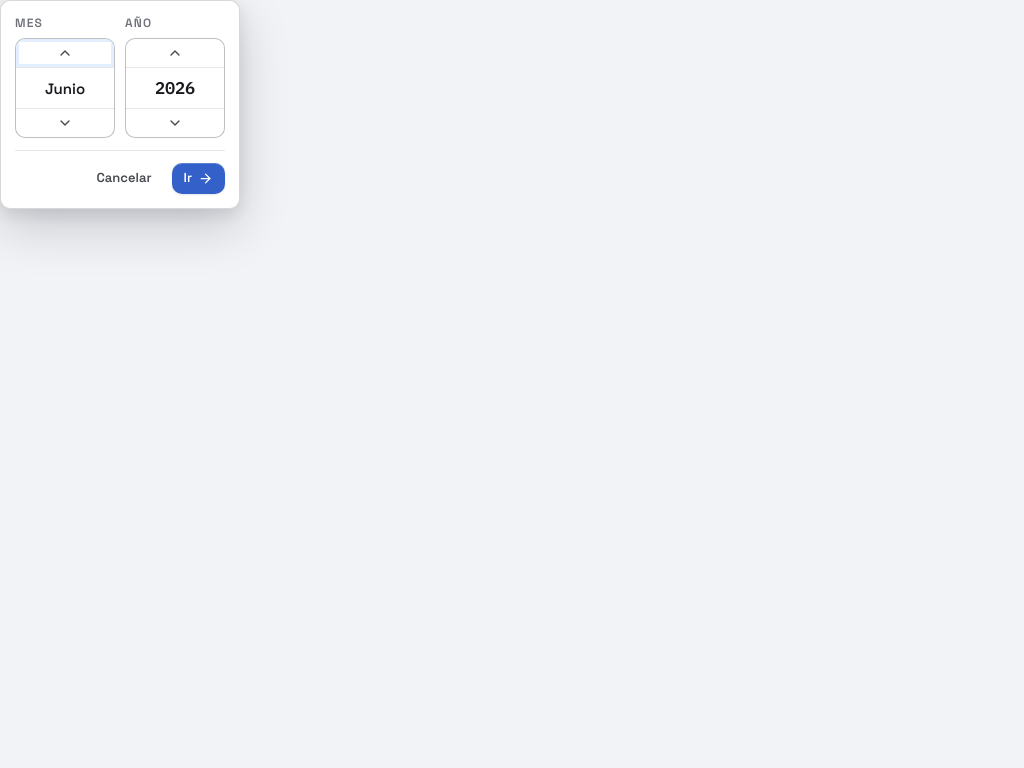
Scenario: MonthJumpPanel › ▲ del mes incrementa el mes
expect the dialog is shown: met, box [0,0,240,209]
Step 1. Click the button named "Mes siguiente" → (65, 53), box [16,39,114,67]
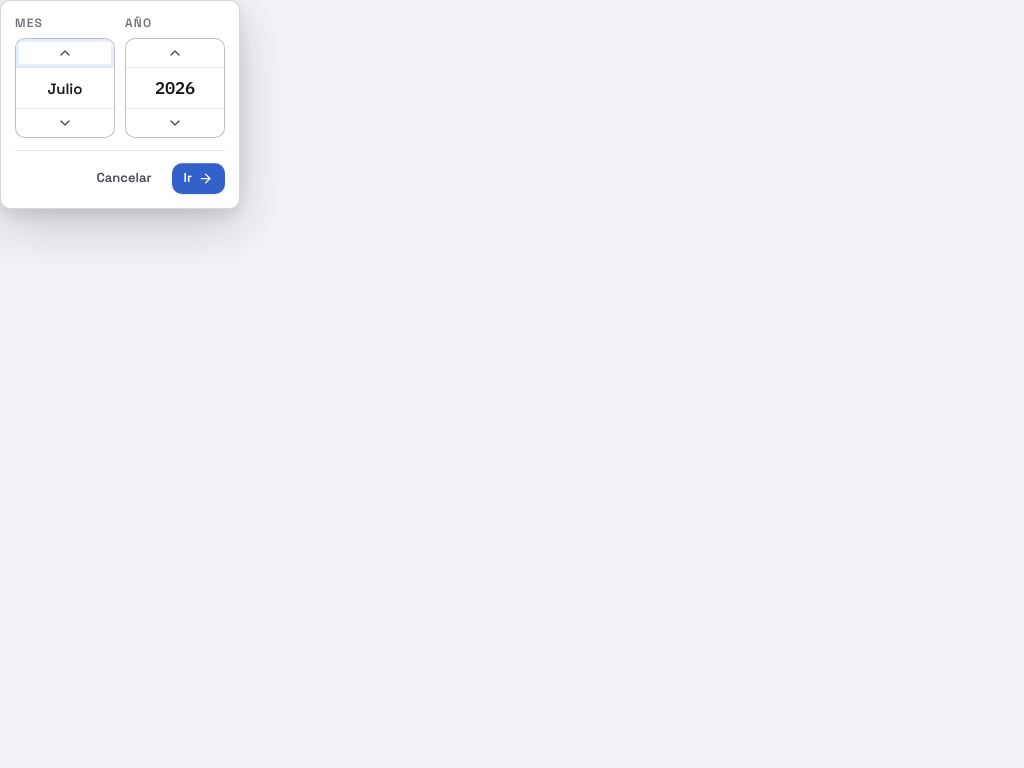
expect the text "Julio" is shown: met, box [48,78,82,98]
